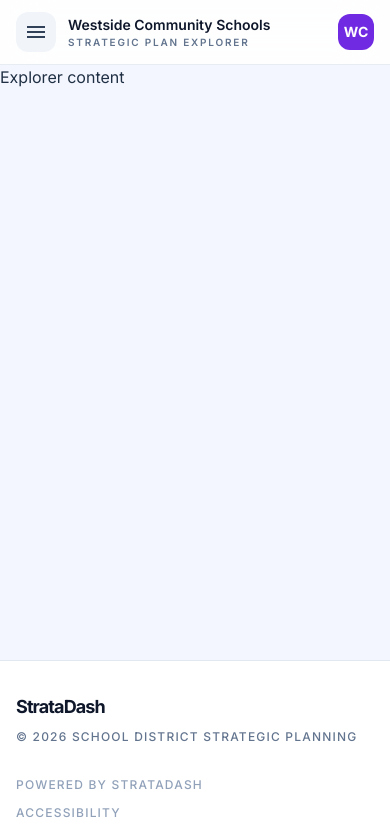
Test: PublicSidebarLayout › keeps the active goal lineage visible inside the mobile explorer sheet
Step 1. Click the button with test id "public-mobile-menu-button" → (36, 32), box [16,12,56,52]
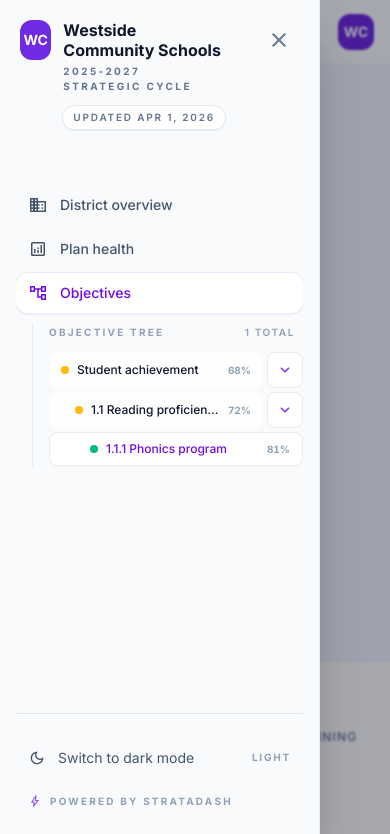
Expected: the link "1.1 Reading proficiency 72%" is shown, [49,392,263,428]
Expected: the link "1.1.1 Phonics program 81%" is shown, [49,432,303,466]
